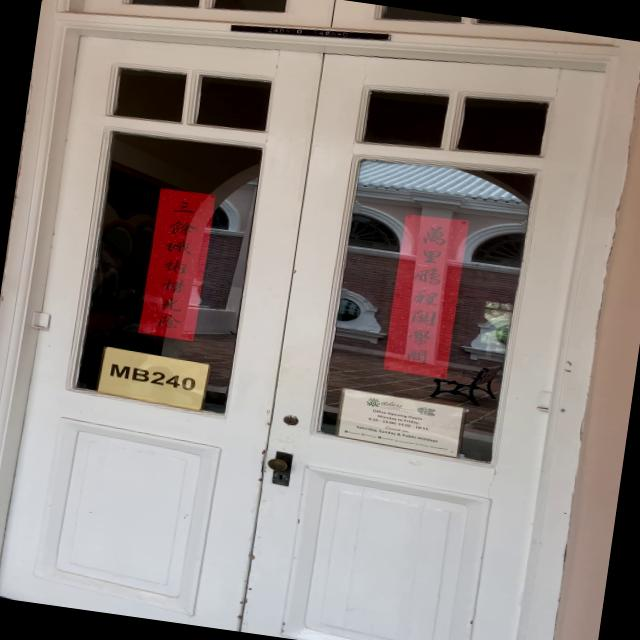room240: (101, 351, 210, 406)
